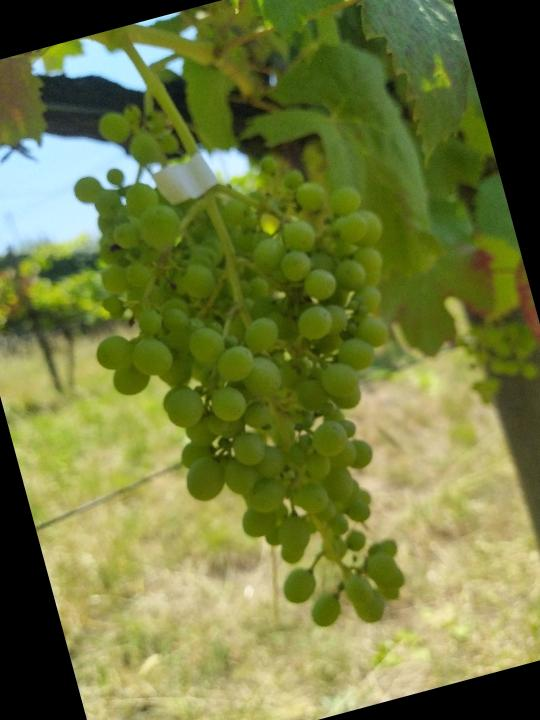grape: (48, 98, 487, 680)
